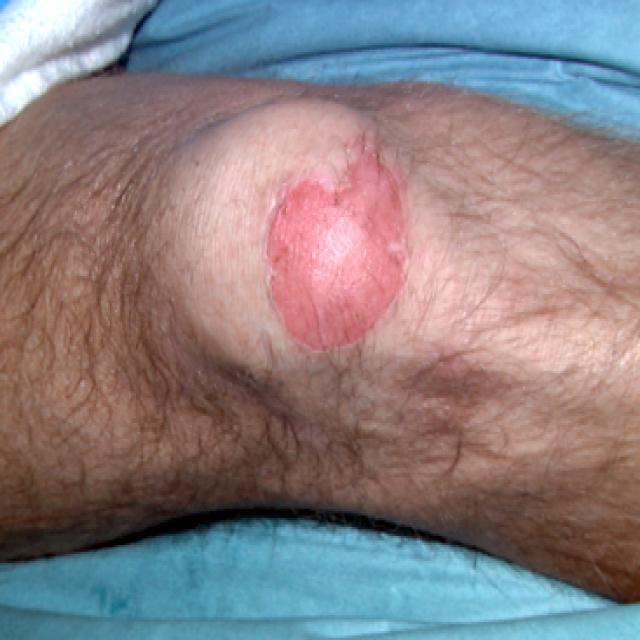stage-2: (264, 146, 406, 347)
